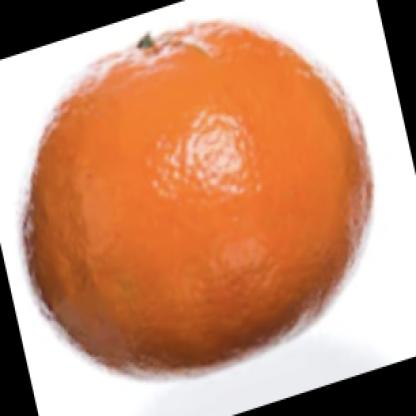fresh: (27, 29, 372, 374)
